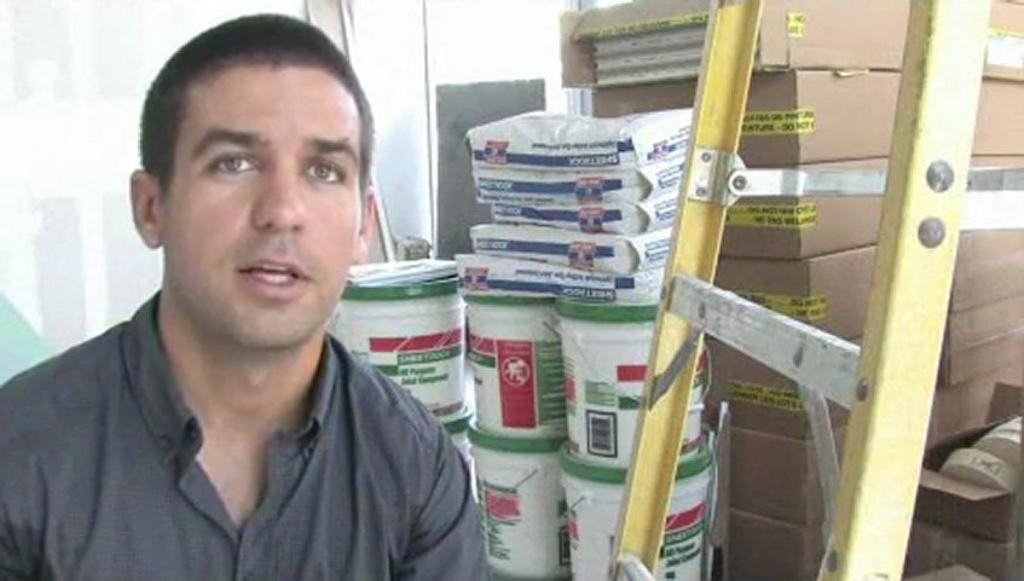face: (188, 70, 366, 326)
